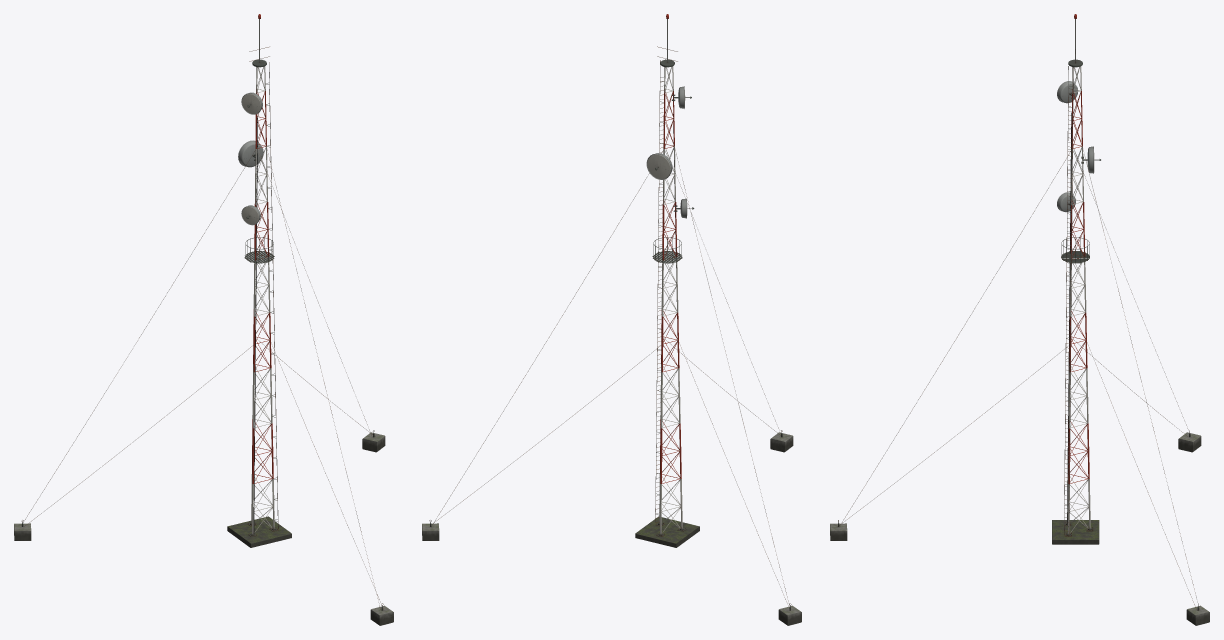
The model's file is mast.glb.
The picture shows the model from 3 angles, left to right: view 1: azimuth 30°, elevation 25°; view 2: azimuth 150°, elevation 25°; view 3: azimuth 270°, elevation 25°; orthographic projection.
Visible parts, largest first — view 1: mast; view 2: mast; view 3: mast.
Boxes of the visible parts, x1,y1,x2,y2 form: mast: (14,14,393,625); mast: (422,14,801,625); mast: (830,14,1209,625).
Size of the model in its own units: 28.34 by 37.64 by 24.84.
1 material, 1 textured.
